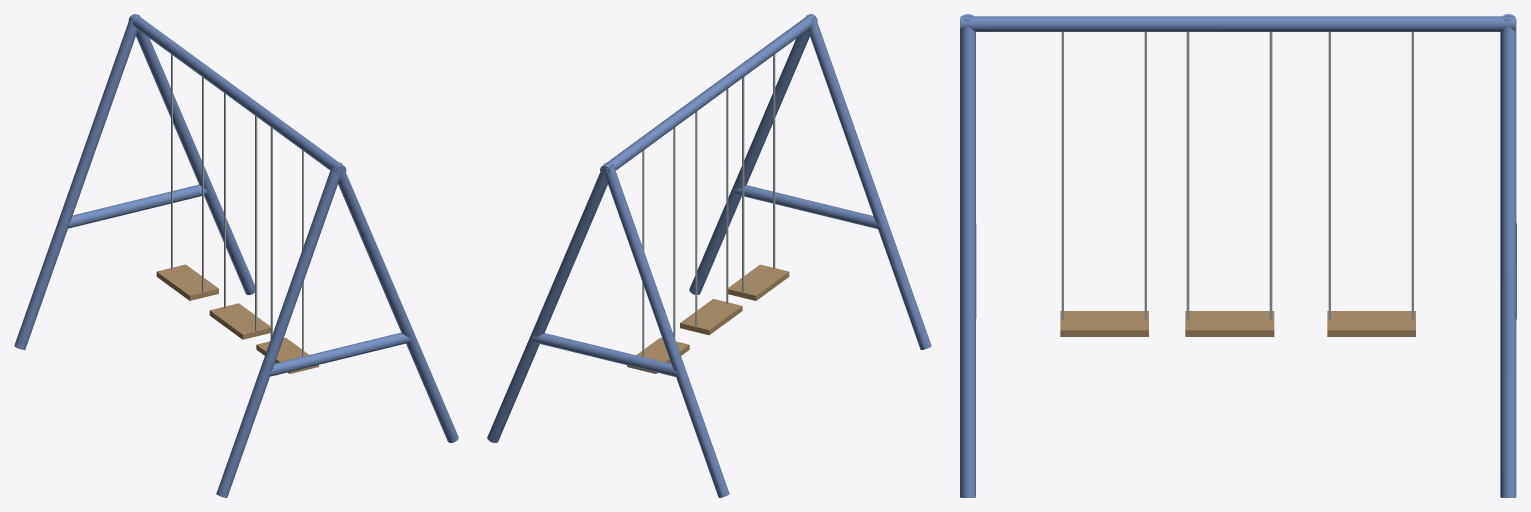
The model's file is playground_swing.fbx.
3 renders of one model, left to right at view 1: azimuth 30°, elevation 25°; view 2: azimuth 150°, elevation 25°; view 3: azimuth 270°, elevation 25°, orthographic. The views are drawn at different scales.
Visible parts, largest first — view 1: playground2:k7; view 2: playground2:k7; view 3: playground2:k7.
Boxes of the visible parts, <box> form: playground2:k7: <box>14,14,458,497</box>; playground2:k7: <box>487,14,931,497</box>; playground2:k7: <box>960,14,1516,497</box>.
Size of the model in its own units: 32.28 by 39.12 by 48.35.
